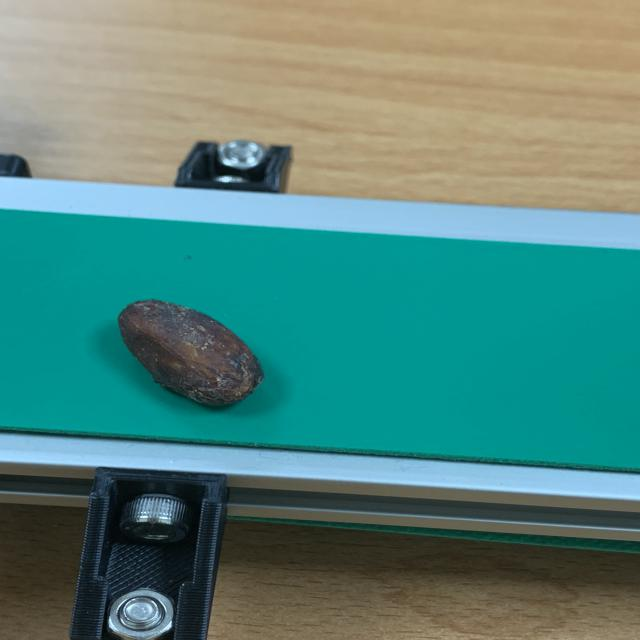Fine_cocoabeans: (21, 271, 346, 436)
